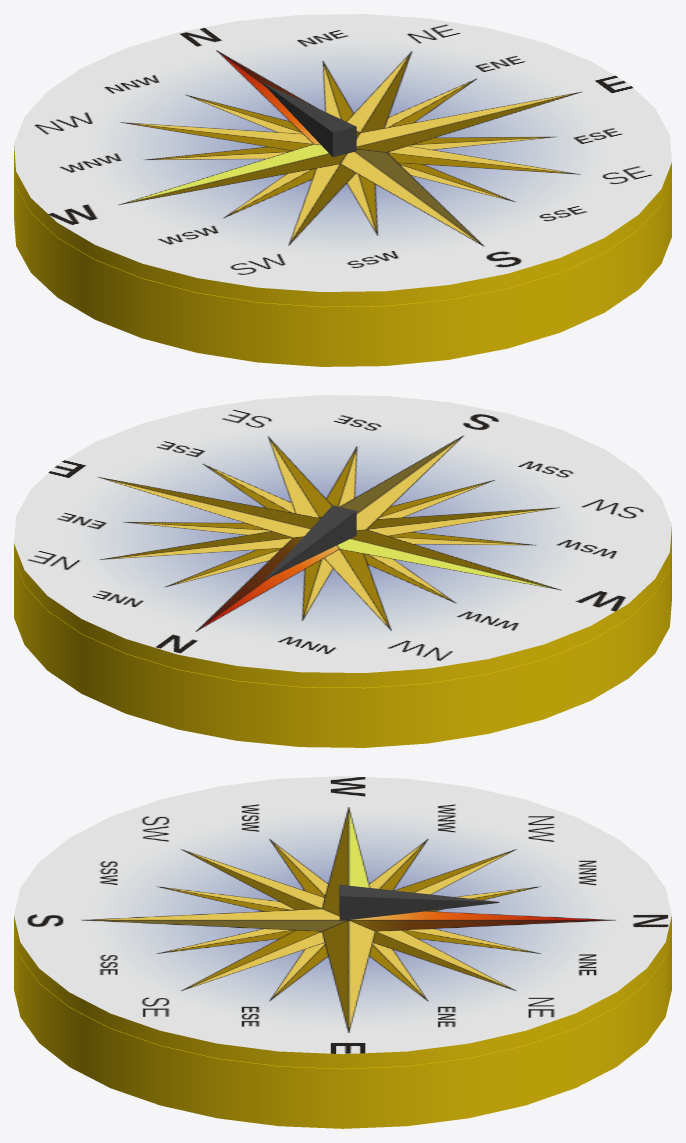
Rendered from compass.fbx.
3 renders of one model, top to bottom at view 1: azimuth 30°, elevation 25°; view 2: azimuth 150°, elevation 25°; view 3: azimuth 270°, elevation 25°, orthographic.
Parts seen in each view (by area): view 1: CompassPart, Body, Arrow; view 2: CompassPart, Body, Arrow; view 3: CompassPart, Body, Arrow.
Part boxes in pixels (x1,y1,x2,y2): CompassPart: [14, 14, 671, 306]; Body: [14, 161, 671, 366]; Arrow: [263, 83, 356, 156]; CompassPart: [14, 395, 671, 687]; Body: [14, 542, 671, 747]; Arrow: [265, 505, 356, 579]; CompassPart: [14, 776, 671, 1068]; Body: [14, 931, 671, 1128]; Arrow: [339, 884, 499, 920].
Size of the model in its own units: 5 by 0.8336 by 5.
